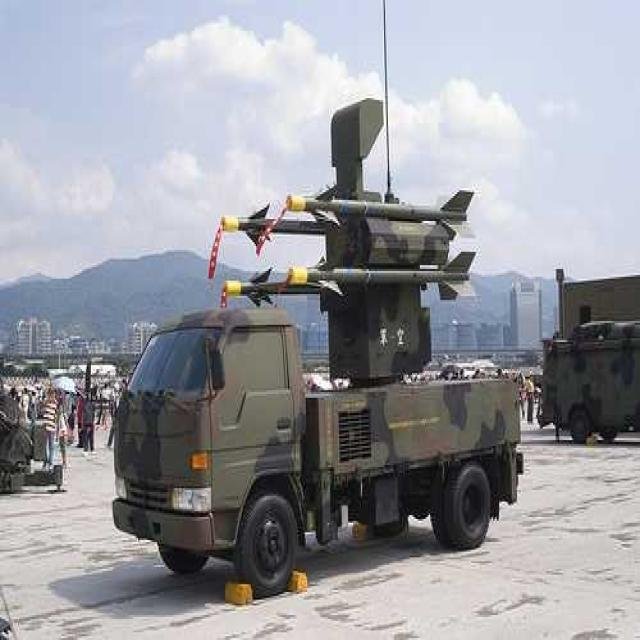missile: (290, 248, 496, 322), (283, 173, 482, 242)
